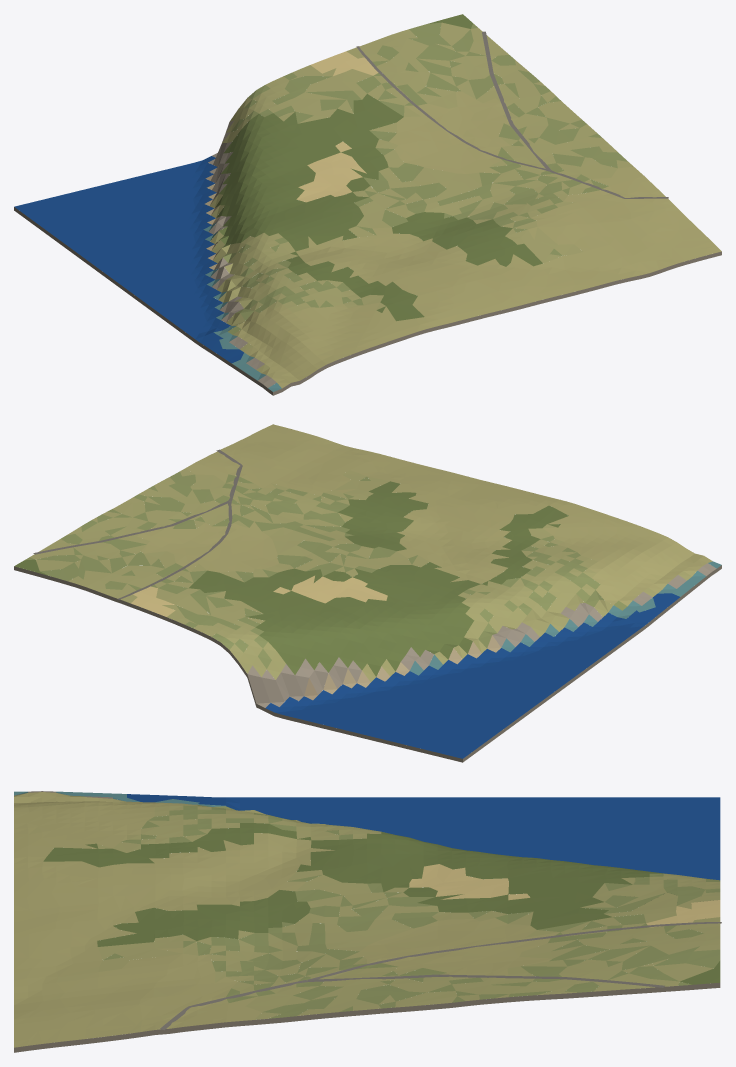
The model's file is parca_-1_-8-uzak.glb.
3 renders of one model, top to bottom at view 1: azimuth 30°, elevation 25°; view 2: azimuth 150°, elevation 25°; view 3: azimuth 270°, elevation 25°, orthographic. The views are drawn at different scales.
Parts seen in each view (by area): view 1: parca_-1_-8_arazi_uzak, parca_-1_-8_yollar_uzak; view 2: parca_-1_-8_arazi_uzak, parca_-1_-8_yollar_uzak; view 3: parca_-1_-8_arazi_uzak, parca_-1_-8_yollar_uzak.
Boxes of the visible parts, x1,y1,x2,y2 form: parca_-1_-8_arazi_uzak: [14, 14, 721, 395]; parca_-1_-8_yollar_uzak: [356, 31, 668, 198]; parca_-1_-8_arazi_uzak: [14, 424, 721, 762]; parca_-1_-8_yollar_uzak: [33, 449, 242, 599]; parca_-1_-8_arazi_uzak: [14, 791, 720, 1052]; parca_-1_-8_yollar_uzak: [160, 922, 721, 1030].
Size of the model in its own units: 1005 by 185 by 1003.
